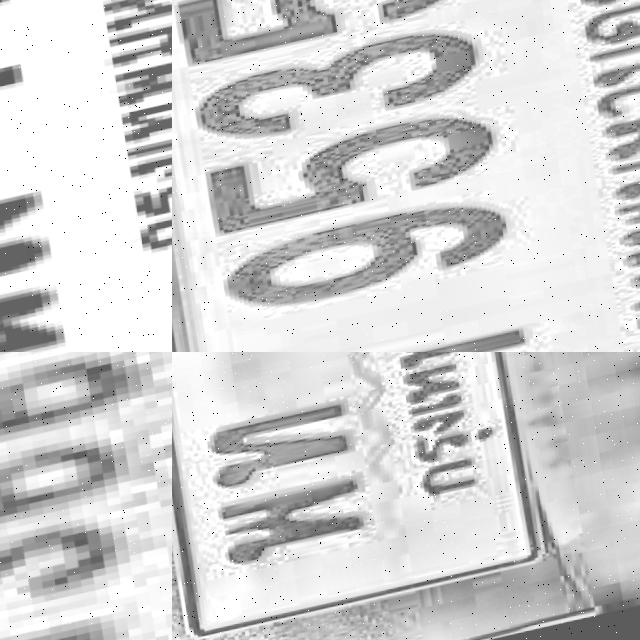license-plate: (172, 0, 640, 352), (172, 352, 544, 640), (0, 0, 172, 352), (0, 352, 172, 640)
